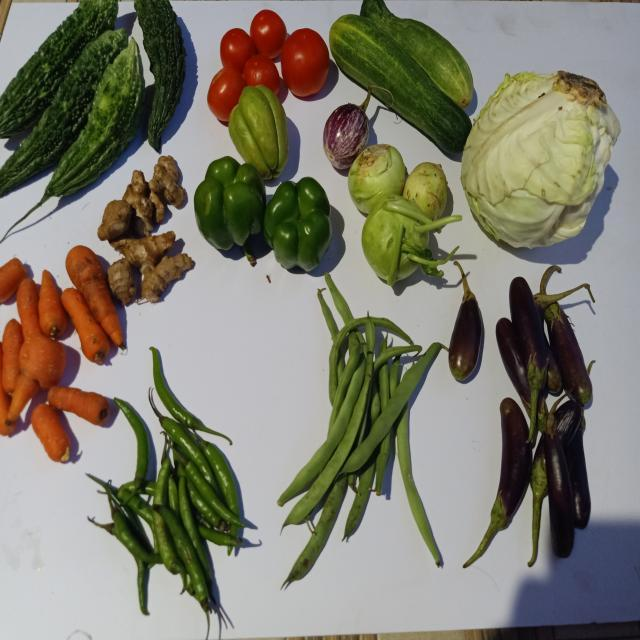Beans: (340, 343, 444, 474), (277, 367, 365, 507), (329, 316, 412, 403)
Bitter Gourd: (0, 28, 127, 196), (31, 37, 144, 209), (0, 0, 117, 137), (133, 0, 185, 150)
Brinjal: (464, 398, 533, 569), (510, 277, 549, 442), (545, 413, 576, 558), (449, 261, 483, 381)
Cabbage: (462, 70, 622, 248)
Carrot: (65, 245, 122, 346), (47, 387, 109, 426), (30, 404, 70, 462), (37, 270, 66, 339)
Cucumber: (329, 13, 472, 152), (360, 0, 474, 108)
Green Chilly: (153, 506, 208, 614), (199, 441, 239, 517)
Tomato: (281, 27, 330, 96), (207, 66, 246, 121), (250, 8, 287, 58), (220, 27, 256, 72)
Turnip: (362, 194, 463, 285), (348, 143, 407, 213), (403, 161, 448, 220)
